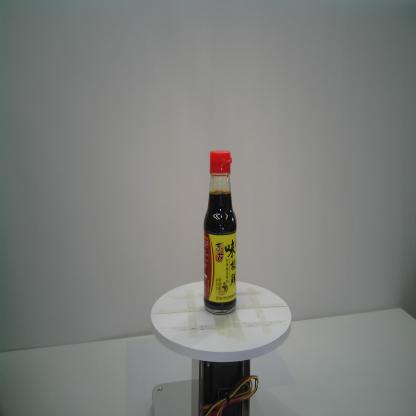Seasoner: (204, 149, 237, 315)
